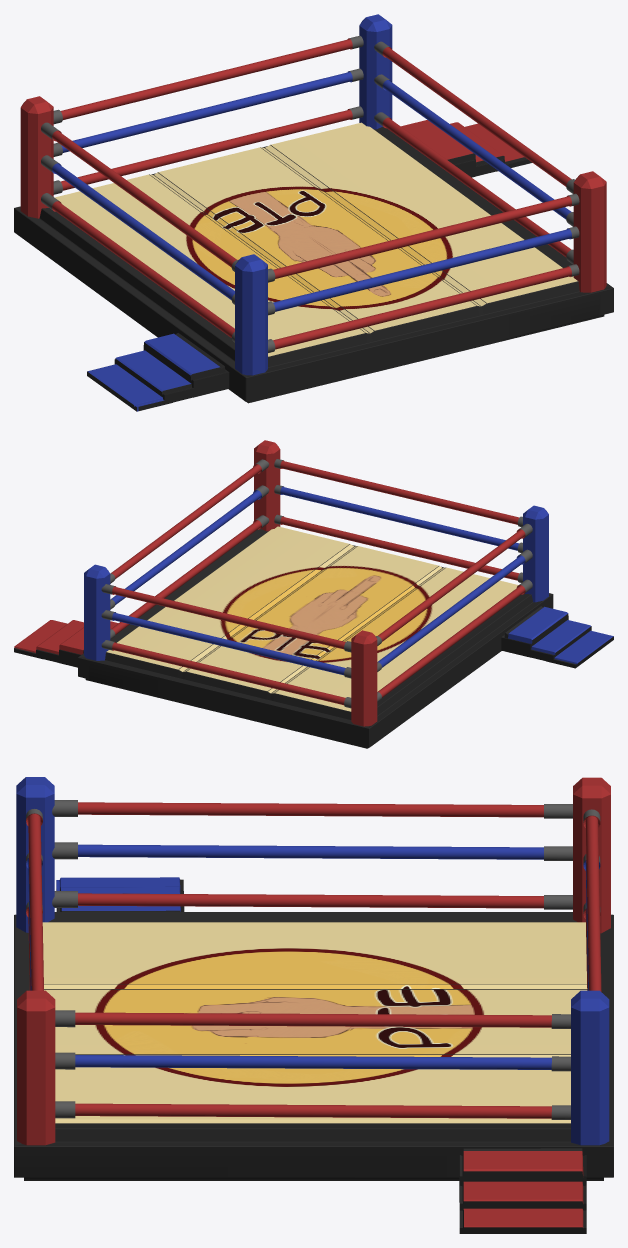
Rendered from boxingring.fbx.
The picture shows the model from 3 angles, top to bottom: view 1: azimuth 30°, elevation 25°; view 2: azimuth 150°, elevation 25°; view 3: azimuth 270°, elevation 25°; orthographic projection. The views are drawn at different scales.
Parts seen in each view (by area): view 1: pCylinder13; view 2: pCylinder13; view 3: pCylinder13.
Boxes of the visible parts, x1=… form: pCylinder13: x1=14, y1=14, x2=613, y2=411; pCylinder13: x1=14, y1=440, x2=613, y2=748; pCylinder13: x1=14, y1=777, x2=613, y2=1233.
Size of the model in its own units: 21.66 by 5.21 by 15.7.
